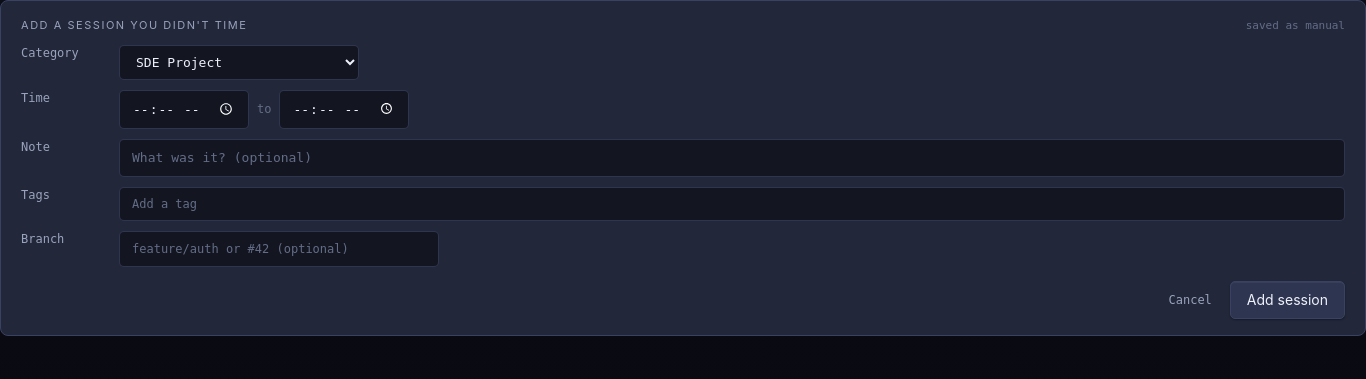
AddSessionForm › refuses exactly midnight as a start
Step 1. Type "00:00" into the time field named "Start time" → (184, 109), box [119,90,249,129]
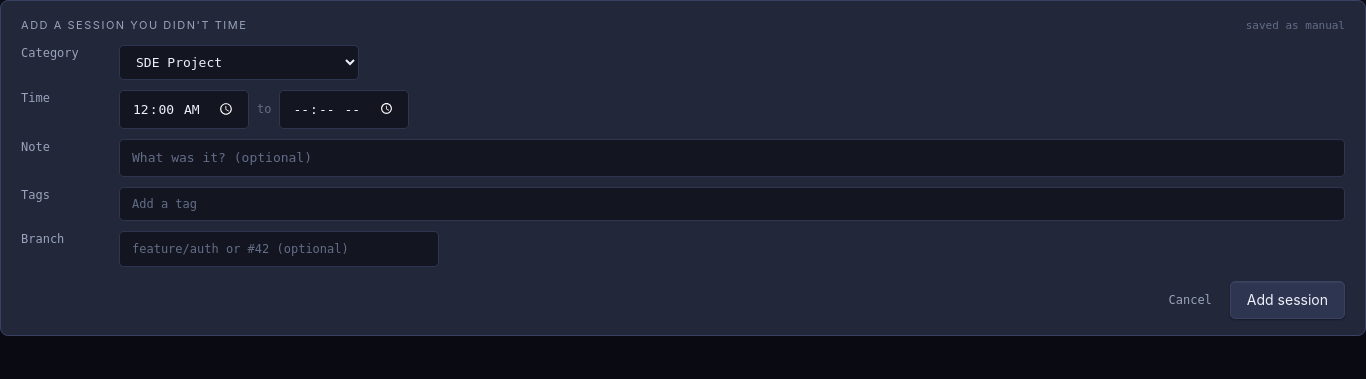
Step 2. Type "01:00" into the time field named "End time" → (344, 109), box [280,90,410,129]
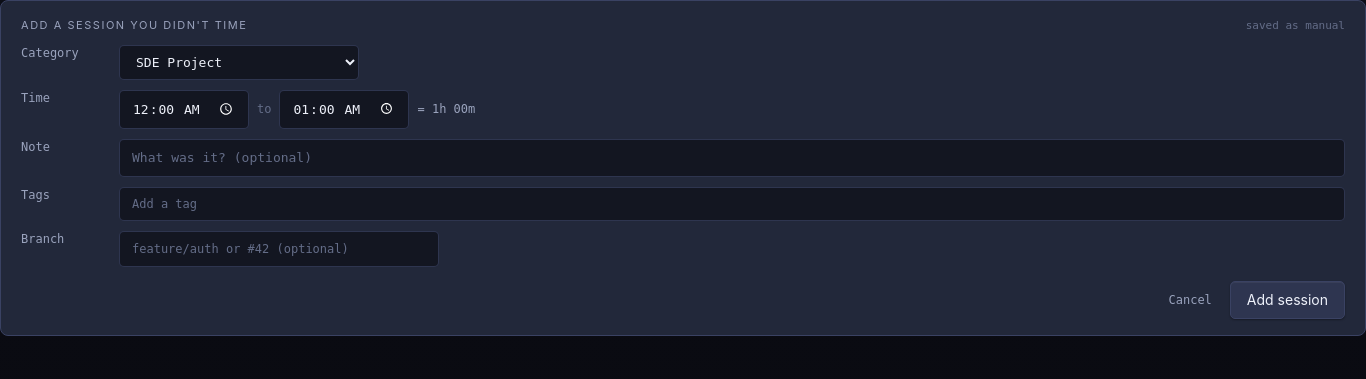
Step 3. Click the button "Add session" → (1287, 300), box [1230,280,1345,318]
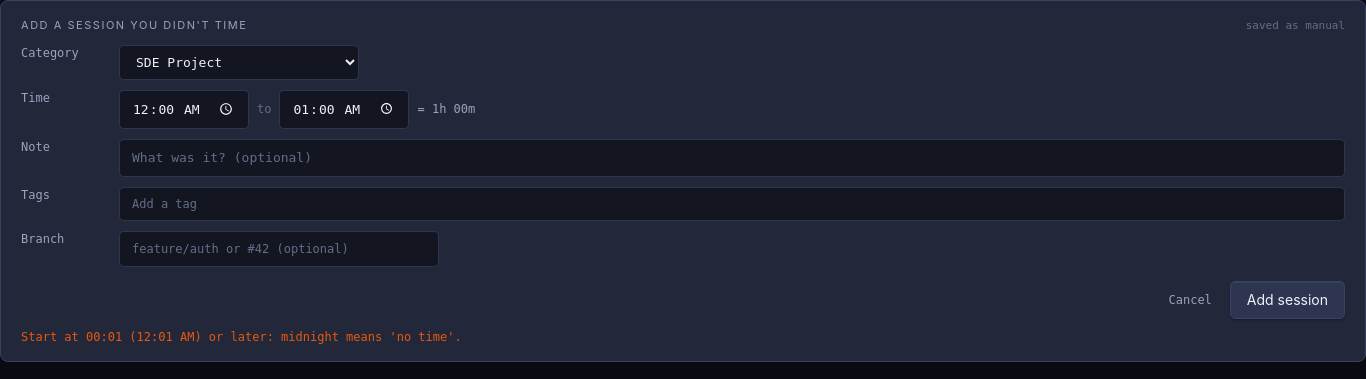
expect the message shows "00:01": met, box [21,330,462,344]
